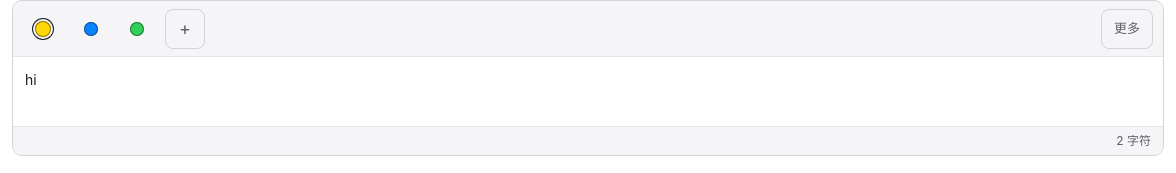
Scenario: 速记 panel › renders one dot per tab and reports the active tab status
expect the footer with test id "quick-tab-status" reads "2 字符": met, box [1116,133,1151,148]
What coordinates should you click on to do the following:
click the tab with test id "quick-tab-dot-"
I would click on:
 (91, 28)
Its box is [73,10,109,46].
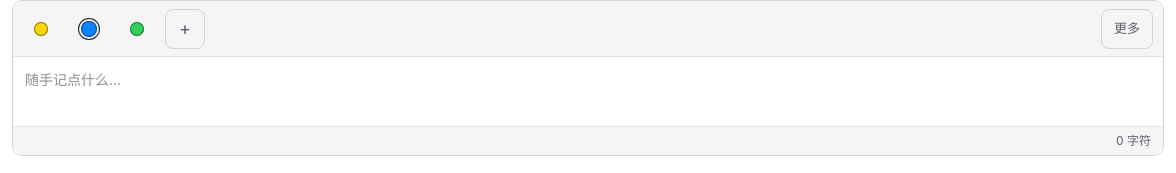
expect the footer with test id "quick-tab-status" reads "0 字符": met, box [1116,133,1151,148]
